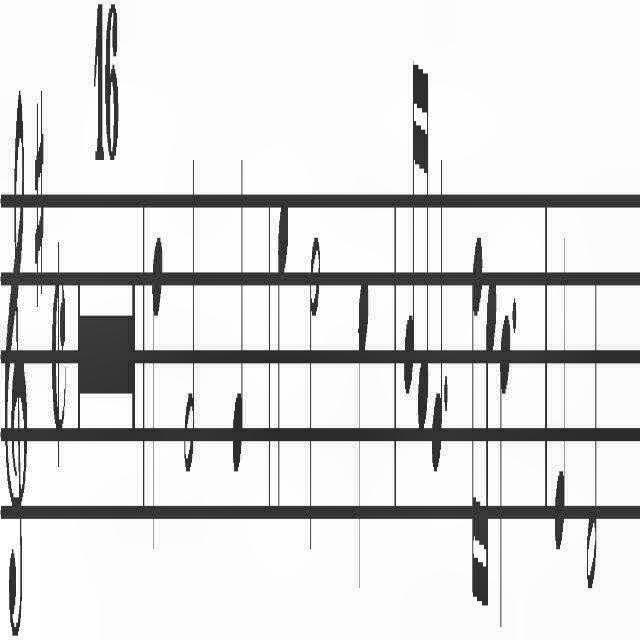Bass-clef: (1, 47, 29, 640)
Diez: (32, 68, 48, 320)
Half-note: (581, 238, 603, 630), (179, 147, 197, 507), (306, 210, 322, 550)
Quarter-note: (225, 147, 248, 505), (552, 197, 572, 578), (355, 254, 373, 590), (148, 202, 164, 570), (274, 169, 290, 523), (432, 122, 444, 478), (499, 284, 511, 640)
Sixteenth-note: (399, 0, 416, 418), (468, 218, 484, 606), (483, 251, 498, 640), (418, 55, 429, 445)
